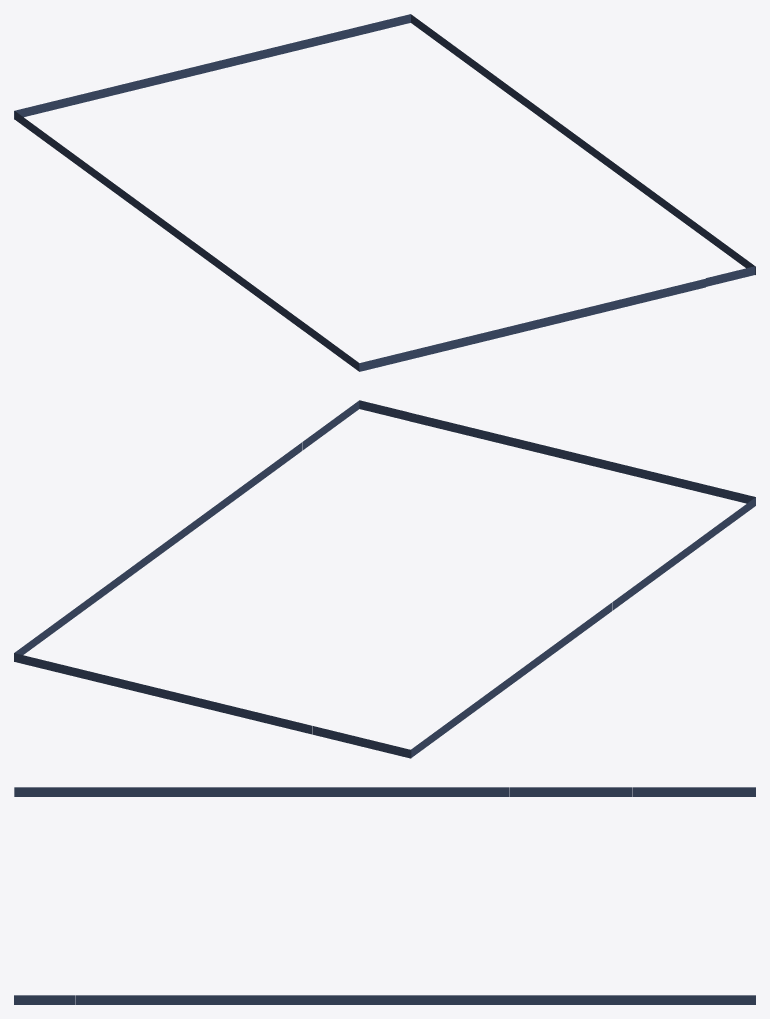
File: cartelloni.glb
3 views of the same model, one above another, from view 1: azimuth 30°, elevation 25°; view 2: azimuth 150°, elevation 25°; view 3: azimuth 270°, elevation 25° (orthographic). The views are drawn at different scales.
Parts seen in each view (by area): view 1: no part large enough to name; view 2: no part large enough to name; view 3: cartellone_sponsorA36, cartellone_sponsorA48, cartellone_sponsorB26, cartellone_sponsorA35, cartellone_sponsorB39, cartellone_sponsorB42, cartellone_sponsorA20, cartellone_sponsorA25, cartellone_sponsorA28, cartellone_sponsorA37, cartellone_sponsorA40, cartellone_sponsorA42 (+12 smaller).
Part boxes in pixels (box(x1,y1,x2,y2)): cartellone_sponsorA36: box(260, 787, 323, 796); cartellone_sponsorA48: box(384, 787, 447, 796); cartellone_sponsorB26: box(631, 995, 694, 1004); cartellone_sponsorA35: box(323, 995, 385, 1004); cartellone_sponsorB39: box(137, 995, 199, 1004); cartellone_sponsorB42: box(693, 787, 755, 796); cartellone_sponsorA20: box(75, 995, 136, 1004); cartellone_sponsorA25: box(14, 787, 75, 796); cartellone_sponsorA28: box(570, 995, 631, 1004); cartellone_sponsorA37: box(509, 787, 570, 796); cartellone_sponsorA40: box(447, 995, 508, 1004); cartellone_sponsorA42: box(200, 995, 261, 1004).
Size of the model in its own units: 12.2 by 0.2696 by 18.36.
